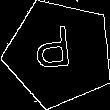P_S: (38, 27, 80, 80)
